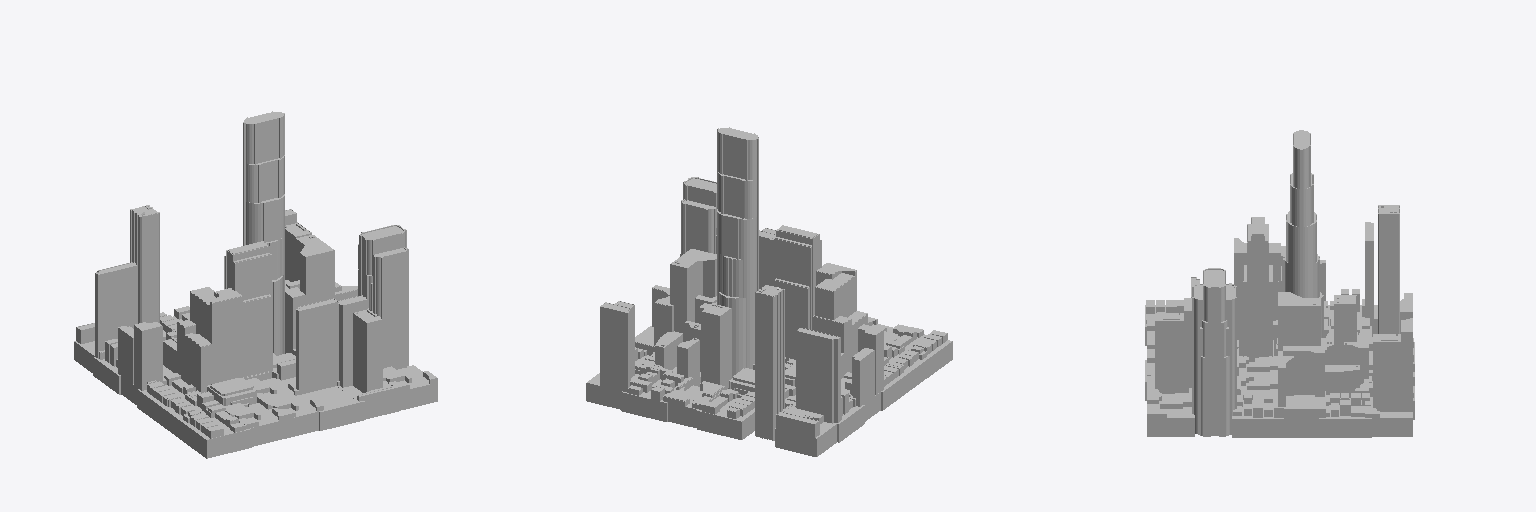
3 views of the same model, side by side, from view 1: azimuth 30°, elevation 25°; view 2: azimuth 150°, elevation 25°; view 3: azimuth 270°, elevation 25° (orthographic).
Parts seen in each view (by area): view 1: Mograph_City_Rig.1; view 2: Mograph_City_Rig.1; view 3: Mograph_City_Rig.1.
Part boxes in pixels (x1,y1,x2,y2): Mograph_City_Rig.1: (74,111,437,458); Mograph_City_Rig.1: (586,127,952,456); Mograph_City_Rig.1: (1145,130,1414,437).
Bounding box in the file's own units: 3100 × 3177 × 3100.